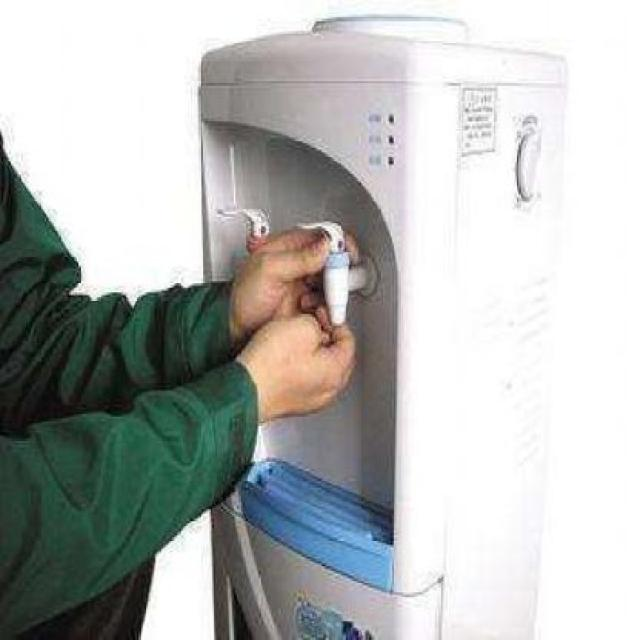cooler: (196, 11, 570, 639)
